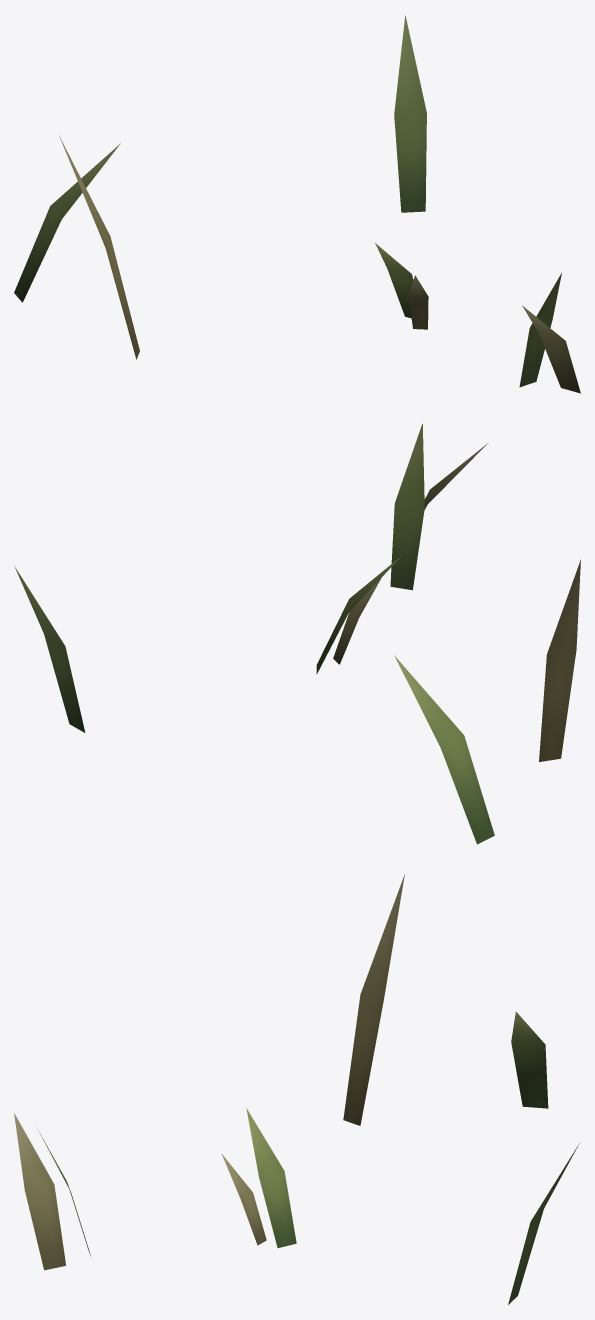
The model's file is meadow_broad_far.gltf.
The picture shows the model from 3 angles, top to bottom: view 1: azimuth 30°, elevation 25°; view 2: azimuth 150°, elevation 25°; view 3: azimuth 270°, elevation 25°; orthographic projection. The views are drawn at different scales.
Visible parts, largest first — view 1: meadow_broad_far; view 2: meadow_broad_far; view 3: meadow_broad_far.
Part boxes in pixels (box(x1,y1,x2,y2)): meadow_broad_far: box(14, 15, 580, 393); meadow_broad_far: box(14, 423, 580, 844); meadow_broad_far: box(14, 874, 579, 1304).
Size of the model in its own units: 0.9085 by 0.434 by 1.
Materials: 3 (3 with a texture image).
